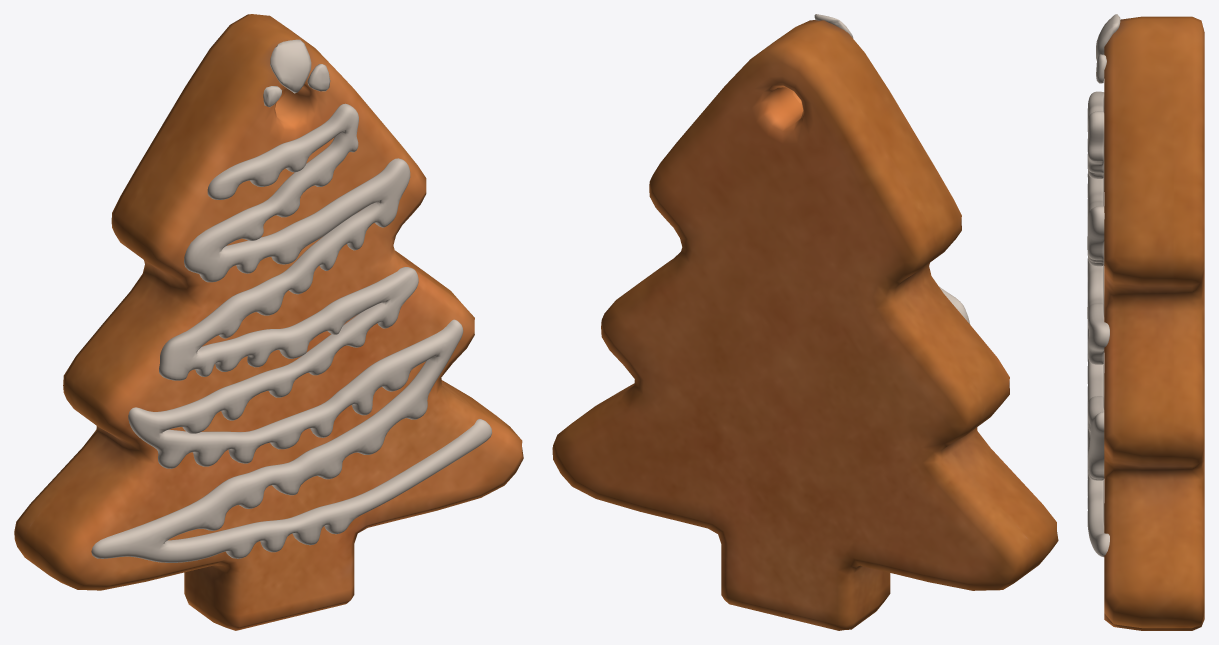
The model's file is ChristmasTreeCookie.glb.
3 views of the same model, side by side, from view 1: azimuth 30°, elevation 25°; view 2: azimuth 150°, elevation 25°; view 3: azimuth 270°, elevation 25° (orthographic).
Visible parts, largest first — view 1: Christmas_tree_1; view 2: Christmas_tree_1; view 3: Christmas_tree_1.
Part boxes in pixels (x1,y1,x2,y2): Christmas_tree_1: [14, 14, 523, 630]; Christmas_tree_1: [552, 14, 1058, 630]; Christmas_tree_1: [1087, 14, 1204, 630].
Size of the model in its own units: 1.31 by 1.53 by 0.2774.
1 material, 1 textured.
